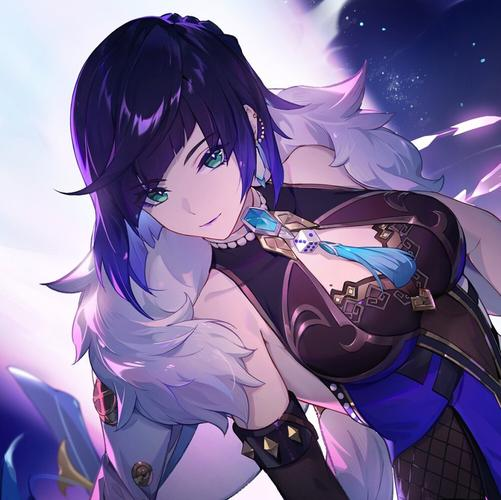夜兰: (66, 13, 501, 500)
